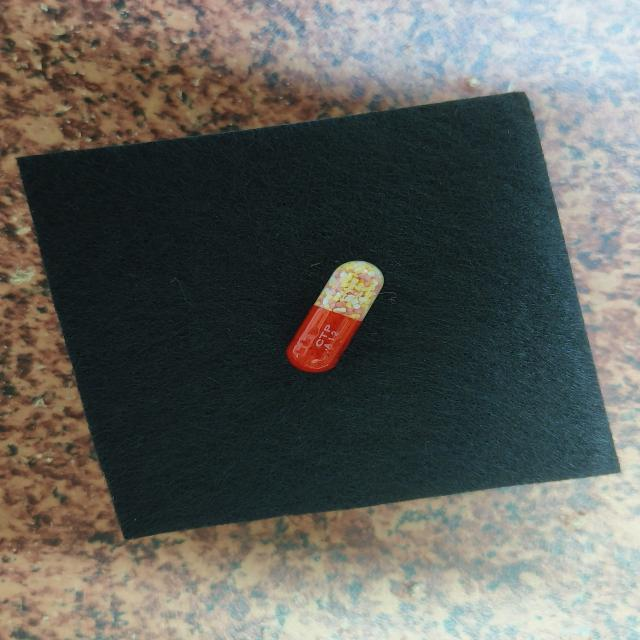Intact Capsule: (286, 261, 384, 373)
